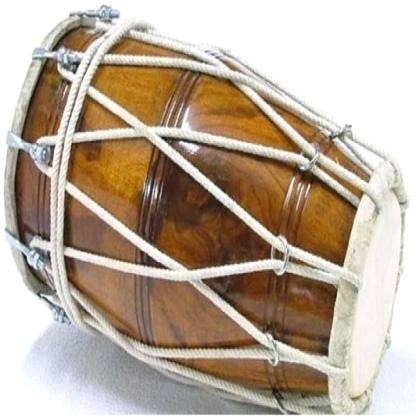Mridangam: (10, 7, 406, 415)
